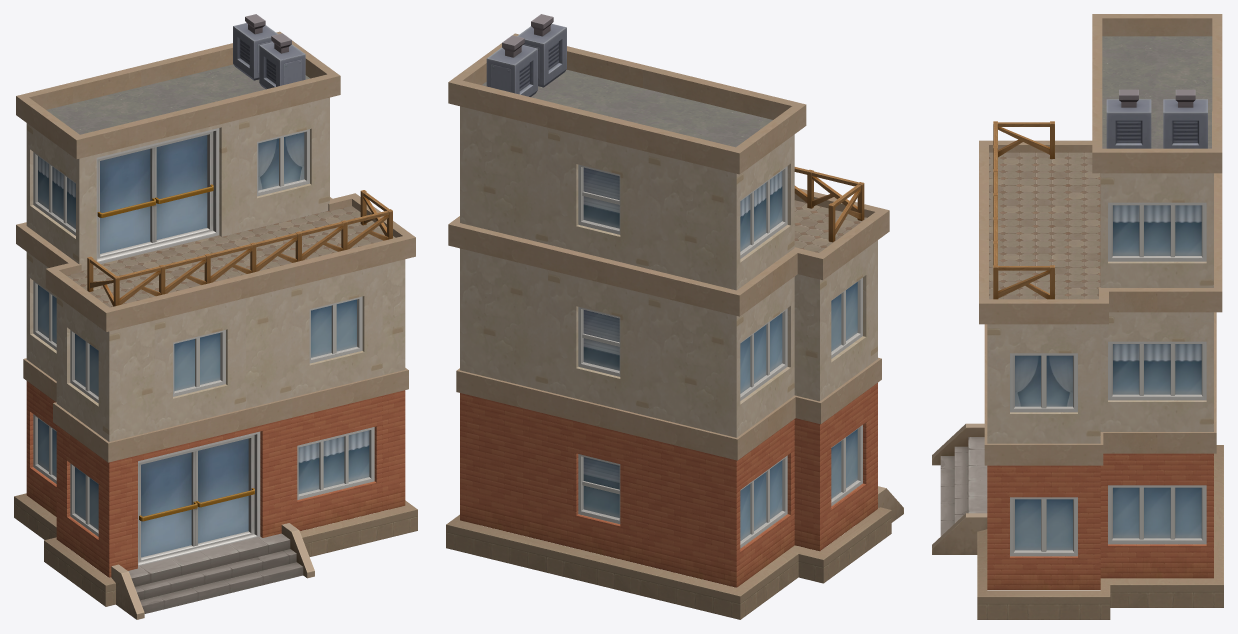
File: Building_1_transformed.glb
3 views of the same model, side by side, from view 1: azimuth 30°, elevation 25°; view 2: azimuth 150°, elevation 25°; view 3: azimuth 270°, elevation 25° (orthographic). The views are drawn at different scales.
Parts seen in each view (by area): view 1: Building_1_walls_1; view 2: Building_1_walls_1; view 3: Building_1_walls_1.
Boxes of the visible parts, x1,y1,x2,y2 form: Building_1_walls_1: (14,14,417,619); Building_1_walls_1: (446,14,903,619); Building_1_walls_1: (932,14,1223,619).
Bounding box in the file's own units: 6.85 × 9.6 × 5.15.
Materials: 11 (11 with a texture image).
